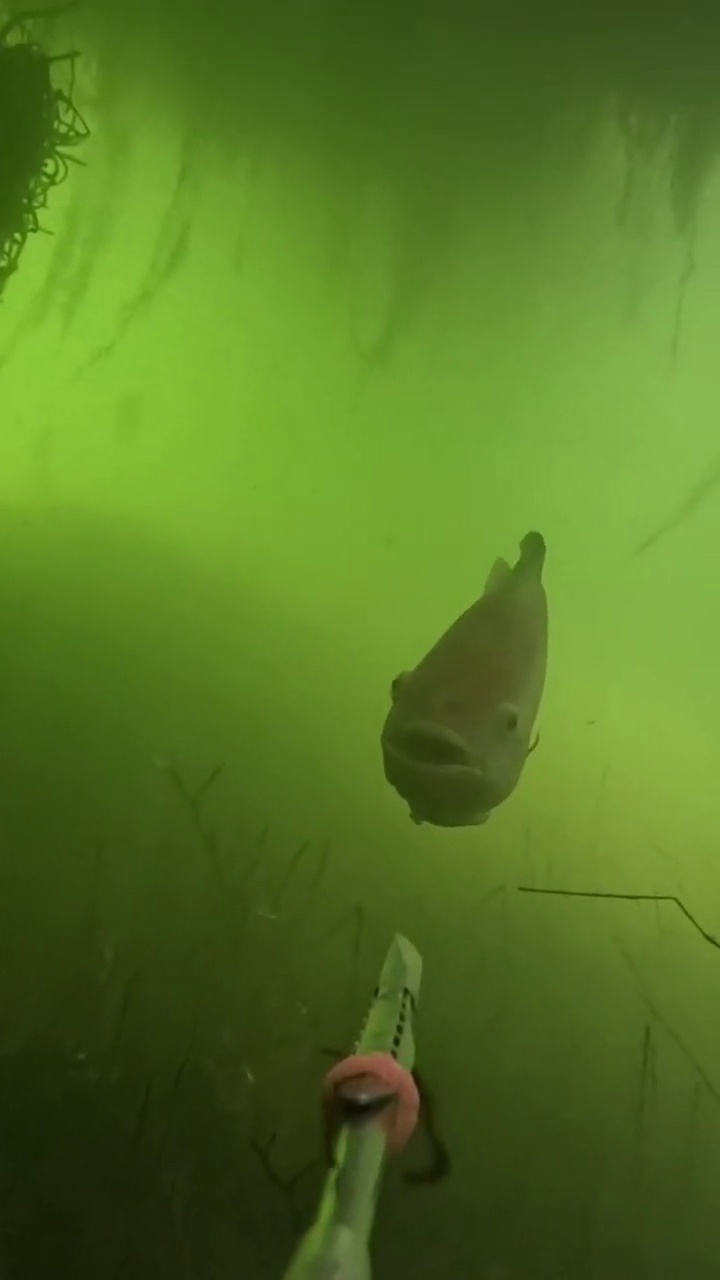Tilapia: (369, 518, 596, 838)
